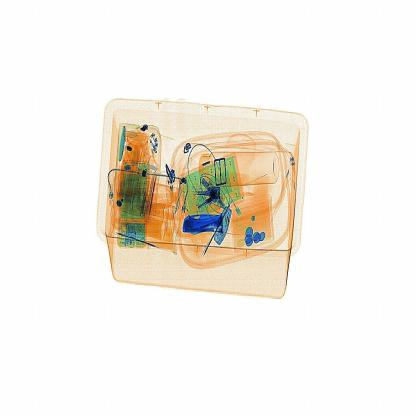knife: (182, 207, 228, 242)
